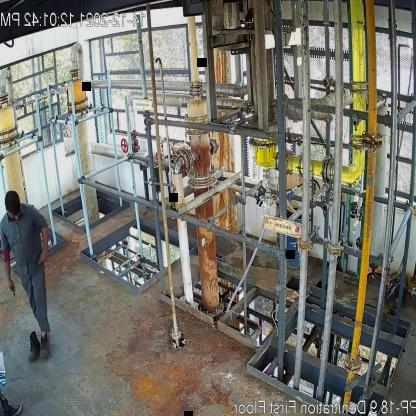shoes: (26, 330, 40, 364), (40, 334, 52, 362)
